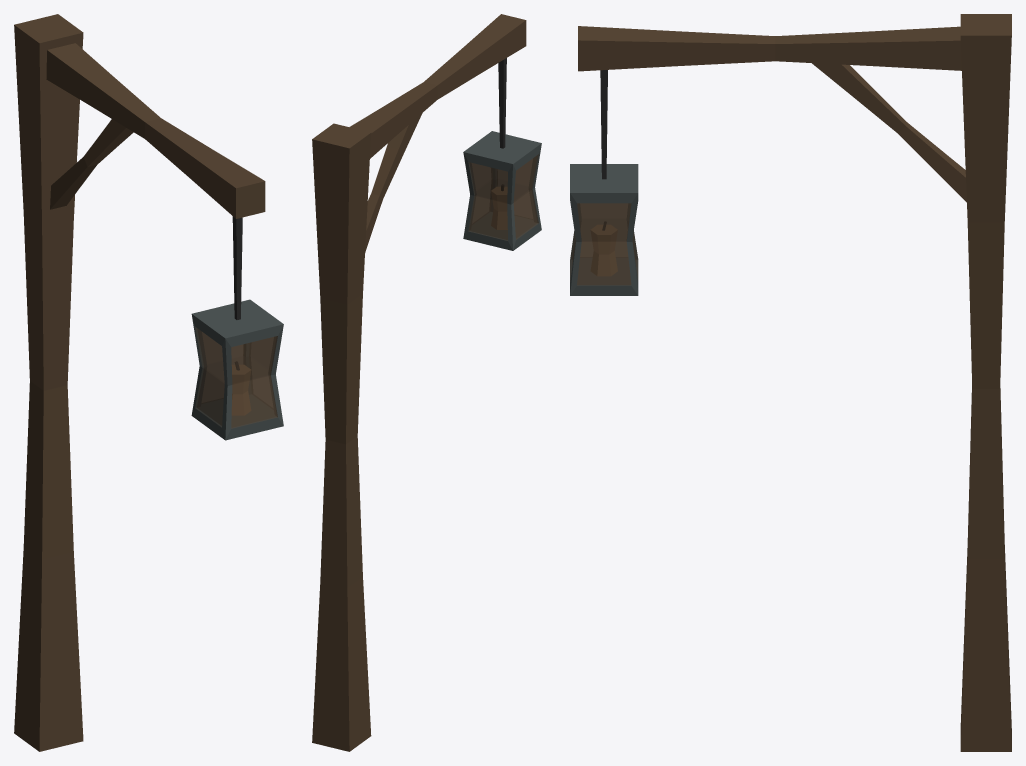
The model's file is Lamp_1_Brown.fbx.
The picture shows the model from 3 angles, left to right: view 1: azimuth 30°, elevation 25°; view 2: azimuth 150°, elevation 25°; view 3: azimuth 270°, elevation 25°; orthographic projection. The views are drawn at different scales.
Visible parts, largest first — view 1: Lamp_1_Brown_Part_1, Lamp_1_Brown_Part_3, Lamp_1_Brown_Part_4, Lamp_1_Brown_Part_2, Lamp_1_Brown_Part_5; view 2: Lamp_1_Brown_Part_1, Lamp_1_Brown_Part_3, Lamp_1_Brown_Part_4, Lamp_1_Brown_Part_2, Lamp_1_Brown_Part_5; view 3: Lamp_1_Brown_Part_1, Lamp_1_Brown_Part_3, Lamp_1_Brown_Part_4, Lamp_1_Brown_Part_5, Lamp_1_Brown_Part_2.
Part boxes in pixels (x1,y1,x2,y2): Lamp_1_Brown_Part_1: [14, 14, 265, 751]; Lamp_1_Brown_Part_3: [191, 299, 283, 440]; Lamp_1_Brown_Part_4: [195, 327, 277, 428]; Lamp_1_Brown_Part_2: [232, 216, 242, 319]; Lamp_1_Brown_Part_5: [232, 365, 250, 415]; Lamp_1_Brown_Part_1: [312, 14, 526, 751]; Lamp_1_Brown_Part_3: [463, 131, 541, 250]; Lamp_1_Brown_Part_4: [468, 154, 538, 240]; Lamp_1_Brown_Part_2: [498, 58, 506, 148]; Lamp_1_Brown_Part_5: [491, 187, 507, 229]; Lamp_1_Brown_Part_1: [578, 14, 1011, 751]; Lamp_1_Brown_Part_3: [570, 164, 638, 295]; Lamp_1_Brown_Part_4: [570, 203, 638, 285]; Lamp_1_Brown_Part_5: [591, 225, 617, 275]; Lamp_1_Brown_Part_2: [600, 70, 607, 179].
Size of the model in its own units: 25.92 by 300 by 168.
